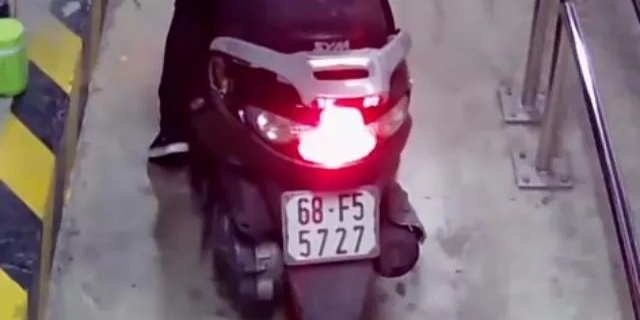bien_so: (280, 192, 383, 264)
